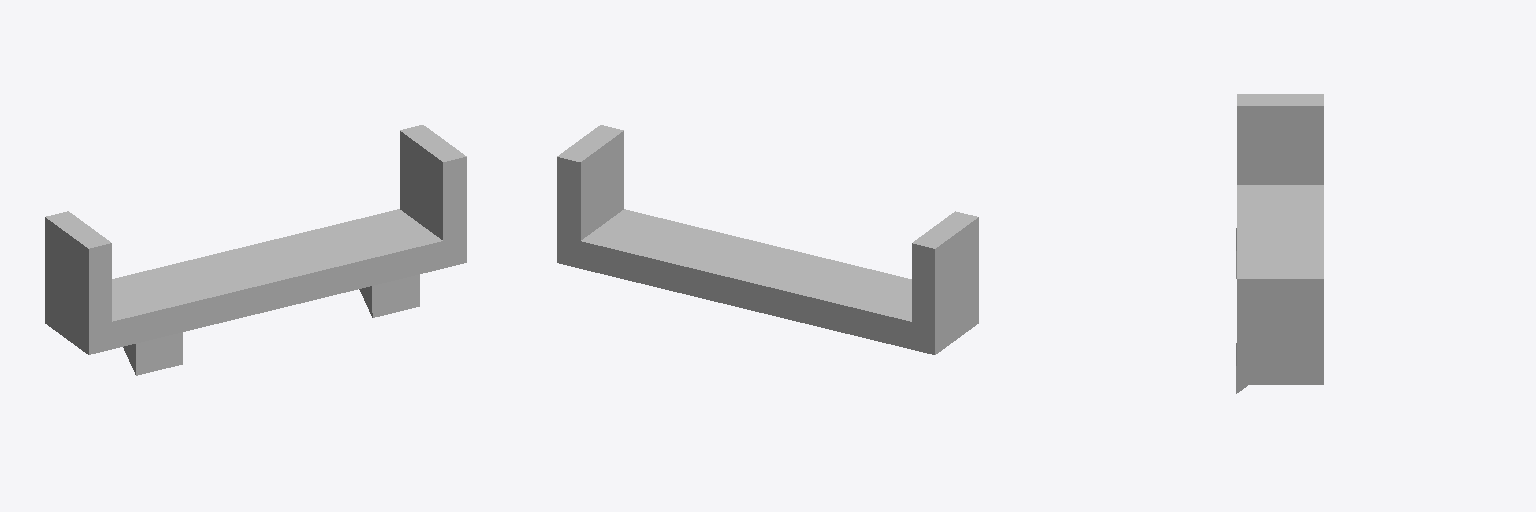
The model's file is shelf.obj.
The picture shows the model from 3 angles: view 1: azimuth 30°, elevation 25°; view 2: azimuth 150°, elevation 25°; view 3: azimuth 270°, elevation 25°; orthographic projection.
Visible parts, largest first — view 1: Shelf; view 2: Shelf; view 3: Shelf.
Part boxes in pixels (x1,y1,x2,y2): Shelf: (45, 125, 466, 375); Shelf: (557, 125, 978, 354); Shelf: (1236, 94, 1323, 393).
Size of the model in its own units: 1 by 0.3496 by 0.2011.